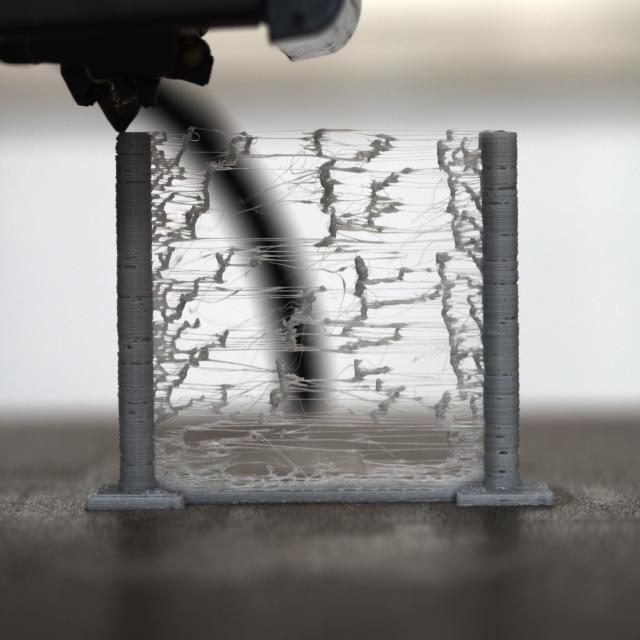Warping: (152, 130, 482, 497)
